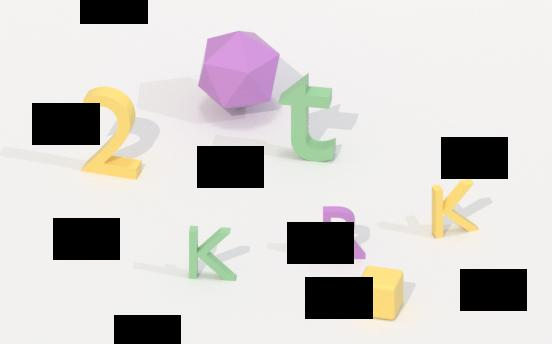2: (79, 84, 145, 182)
R-hoa: (319, 199, 369, 268)
dagiac: (193, 29, 283, 117)
hop: (353, 265, 407, 324)
k: (187, 217, 241, 288), (429, 175, 481, 243)
t: (277, 72, 342, 167)
